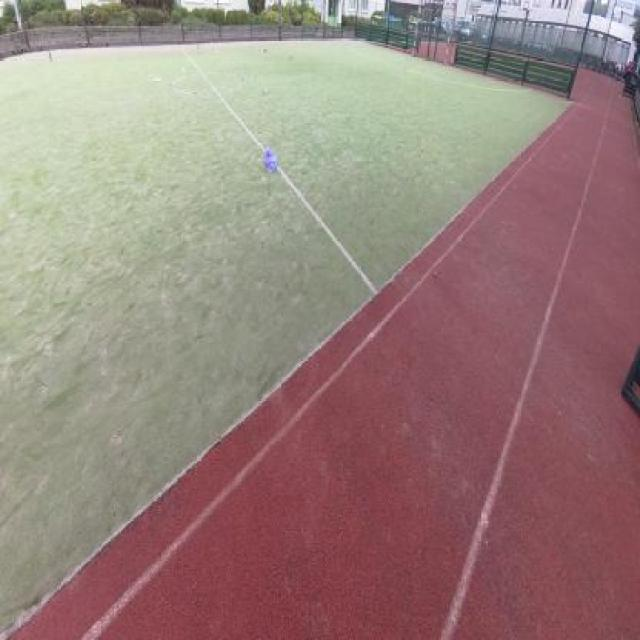Garbage: (48, 50, 53, 63), (202, 57, 207, 68), (264, 86, 269, 96), (196, 44, 200, 55), (181, 68, 187, 75), (152, 77, 161, 81), (206, 100, 211, 107), (215, 50, 220, 57), (210, 42, 213, 53), (289, 53, 293, 60), (117, 58, 121, 63), (250, 46, 254, 50), (262, 48, 266, 51), (269, 47, 272, 51)
